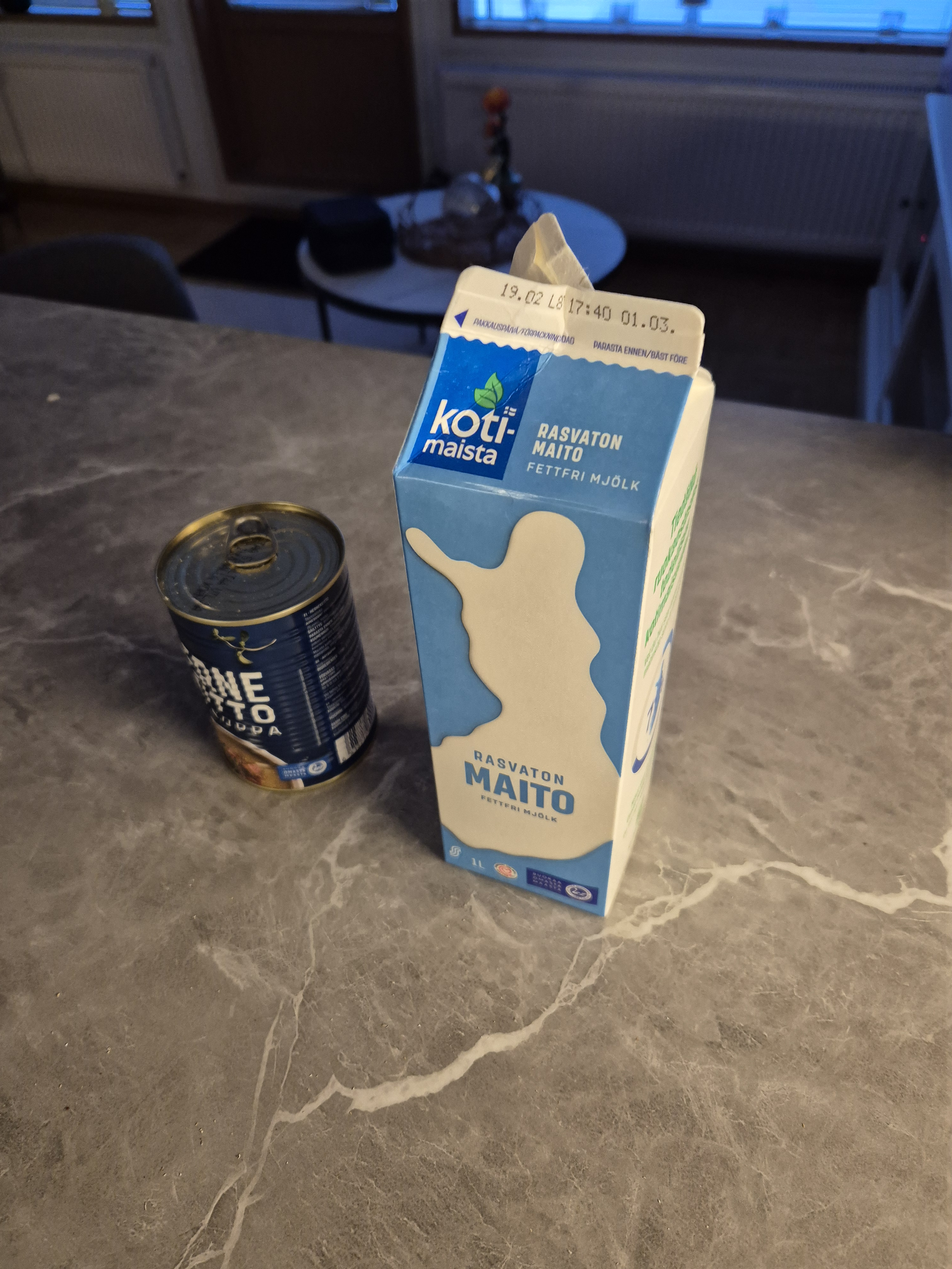Dryckeskartong: (391, 209, 717, 924)
Konservburk: (154, 500, 381, 795)
